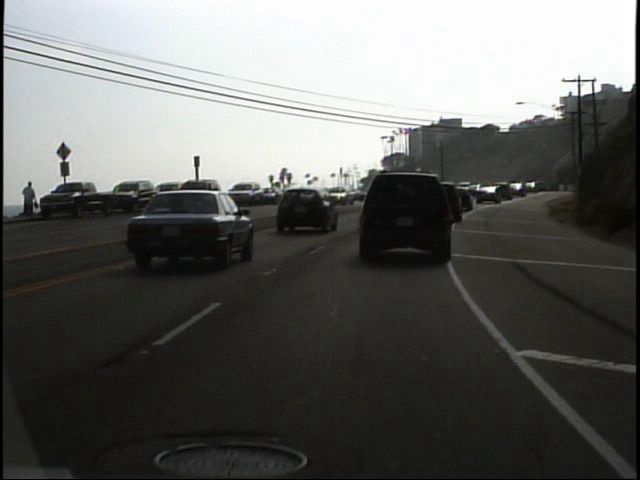person: (22, 177, 43, 220)
